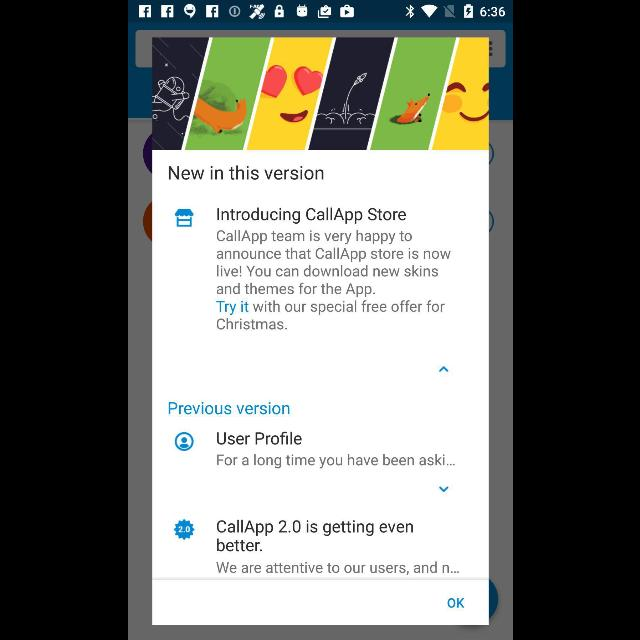icon: (174, 432, 193, 452), (438, 486, 448, 492), (438, 366, 448, 372)
image: (152, 38, 488, 150), (173, 520, 194, 540), (174, 208, 192, 228)
panel: (152, 39, 488, 626)
text: (215, 208, 450, 330), (215, 520, 412, 552), (216, 561, 458, 575), (216, 454, 454, 468), (168, 166, 322, 180), (167, 402, 289, 414), (216, 431, 302, 445), (446, 598, 464, 608)
uppertaskbar: (128, 1, 512, 23)
